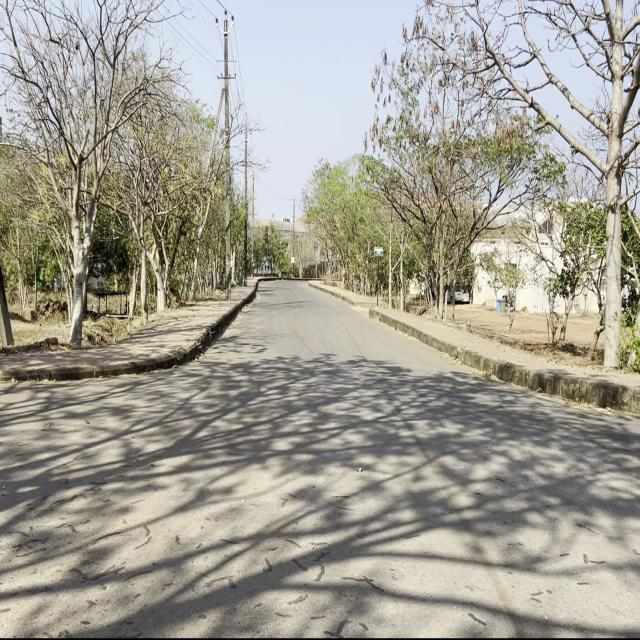Road: (4, 280, 637, 633)
